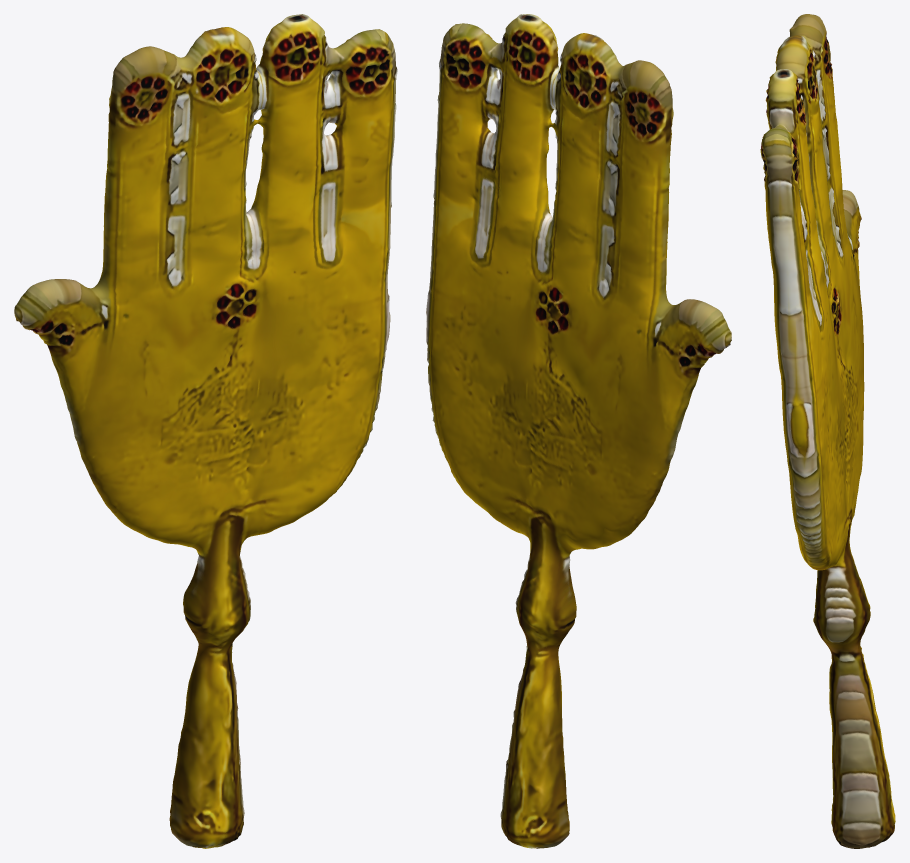
The model's file is kfl-2145.glb.
3 renders of one model, left to right at view 1: azimuth 30°, elevation 25°; view 2: azimuth 150°, elevation 25°; view 3: azimuth 270°, elevation 25°, orthographic. The views are drawn at different scales.
Visible parts, largest first — view 1: kfl-2145; view 2: kfl-2145; view 3: kfl-2145.
Part boxes in pixels (box(x1,y1,x2,y2)): kfl-2145: box(14, 14, 397, 848); kfl-2145: box(426, 14, 731, 848); kfl-2145: box(760, 14, 895, 848).
Size of the model in its own units: 0.4264 by 0.9917 by 0.1528.
1 material, 1 textured.
